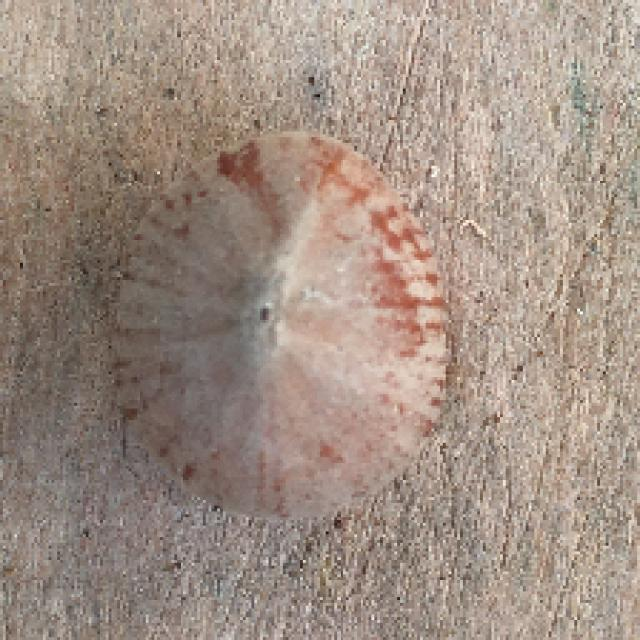qualityHazelnut: (101, 128, 460, 520)
